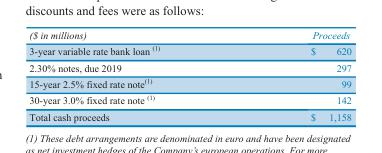table: (28, 28, 350, 122)
table column: (28, 28, 234, 122), (234, 28, 350, 122)
table column header: (28, 28, 350, 41)
table row: (28, 41, 350, 59), (28, 74, 350, 91), (28, 91, 350, 108), (28, 59, 350, 74), (28, 108, 350, 122), (28, 28, 350, 41)
